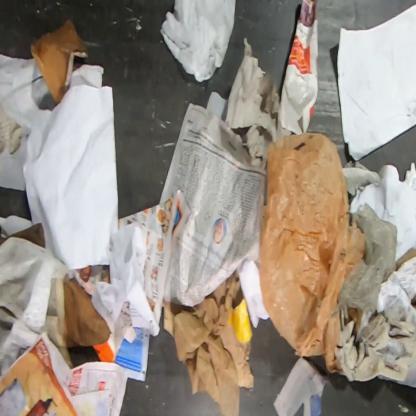cardboard: (30, 19, 88, 105), (0, 221, 46, 249), (395, 247, 416, 272), (410, 291, 416, 314)
soft_plastic: (258, 132, 367, 374), (329, 203, 398, 319), (160, 0, 237, 84), (348, 309, 364, 333)
